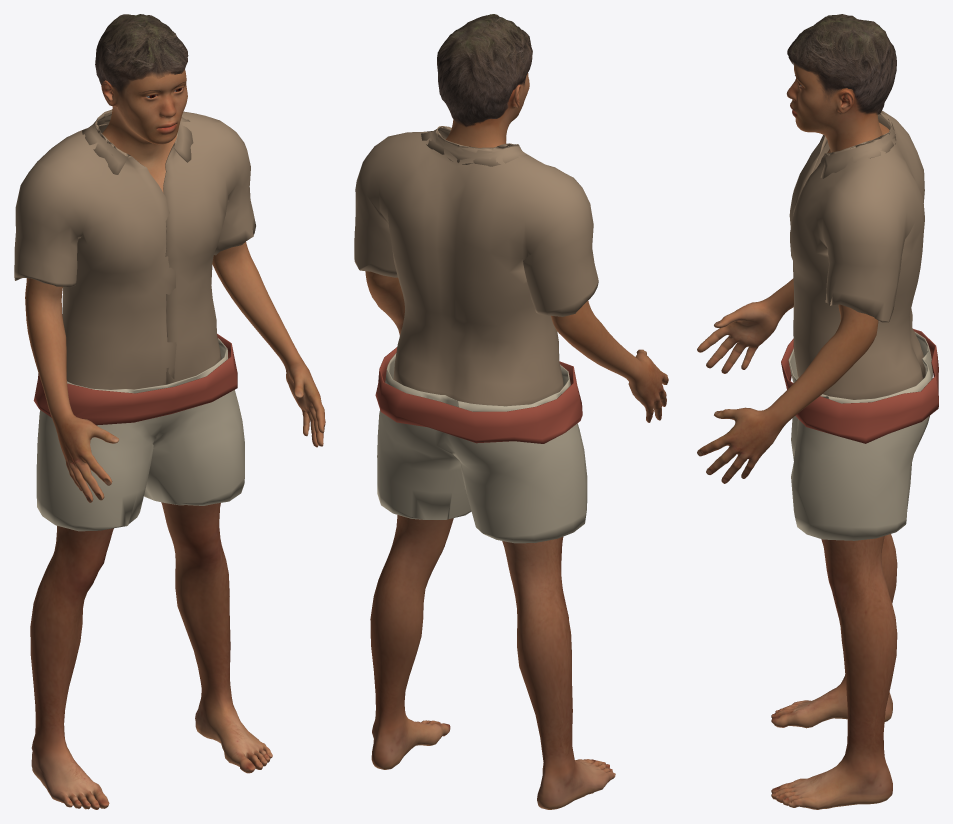
Rendered from dock_porter.glb.
3 renders of one model, left to right at view 1: azimuth 30°, elevation 25°; view 2: azimuth 150°, elevation 25°; view 3: azimuth 270°, elevation 25°, orthographic.
Parts seen in each view (by area): view 1: Fitted cotton upper base_static_preview, dock_porter_MakeHuman_body_static_preview, Porter fitted short work trousers_static_preview, Wide madder waist sash_static_preview, Farmer_hair_static_preview; view 2: Fitted cotton upper base_static_preview, dock_porter_MakeHuman_body_static_preview, Porter fitted short work trousers_static_preview, Farmer_hair_static_preview, Wide madder waist sash_static_preview; view 3: dock_porter_MakeHuman_body_static_preview, Fitted cotton upper base_static_preview, Porter fitted short work trousers_static_preview, Farmer_hair_static_preview, Wide madder waist sash_static_preview.
Boxes of the visible parts, box(x1,y1,x2,y2) form: Fitted cotton upper base_static_preview: box(14, 109, 255, 389); dock_porter_MakeHuman_body_static_preview: box(25, 69, 325, 809); Porter fitted short work trousers_static_preview: box(36, 338, 244, 531); Wide madder waist sash_static_preview: box(33, 333, 237, 425); Farmer_hair_static_preview: box(95, 14, 188, 98); Fitted cotton upper base_static_preview: box(354, 126, 598, 406); dock_porter_MakeHuman_body_static_preview: box(365, 73, 668, 809); Porter fitted short work trousers_static_preview: box(377, 353, 587, 543); Farmer_hair_static_preview: box(437, 14, 532, 126); Wide madder waist sash_static_preview: box(375, 347, 582, 443); dock_porter_MakeHuman_body_static_preview: box(697, 63, 897, 809); Fitted cotton upper base_static_preview: box(789, 111, 925, 399); Porter fitted short work trousers_static_preview: box(788, 331, 932, 540); Farmer_hair_static_preview: box(787, 14, 896, 114); Wide madder waist sash_static_preview: box(781, 329, 938, 443).
Size of the model in its own units: 0.5392 by 1.55 by 0.4595.
8 materials, 4 textured.
